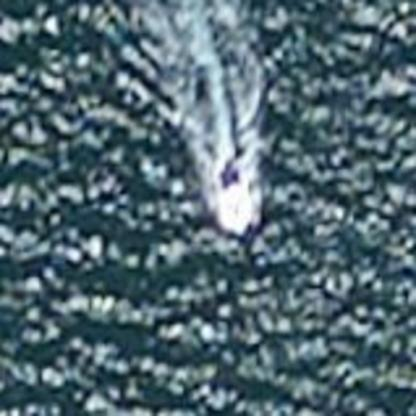ship: (200, 149, 271, 239)
